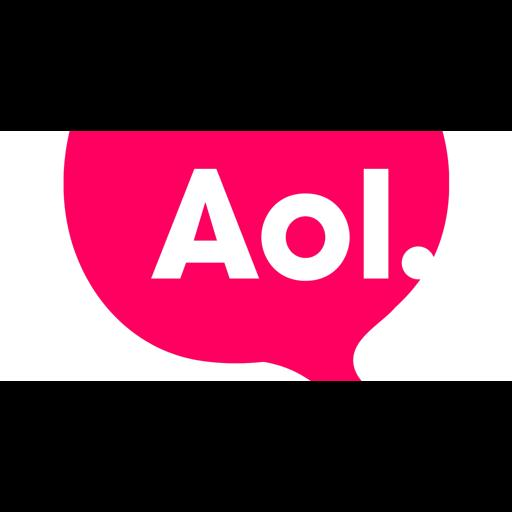AOL: (0, 131, 512, 381)
